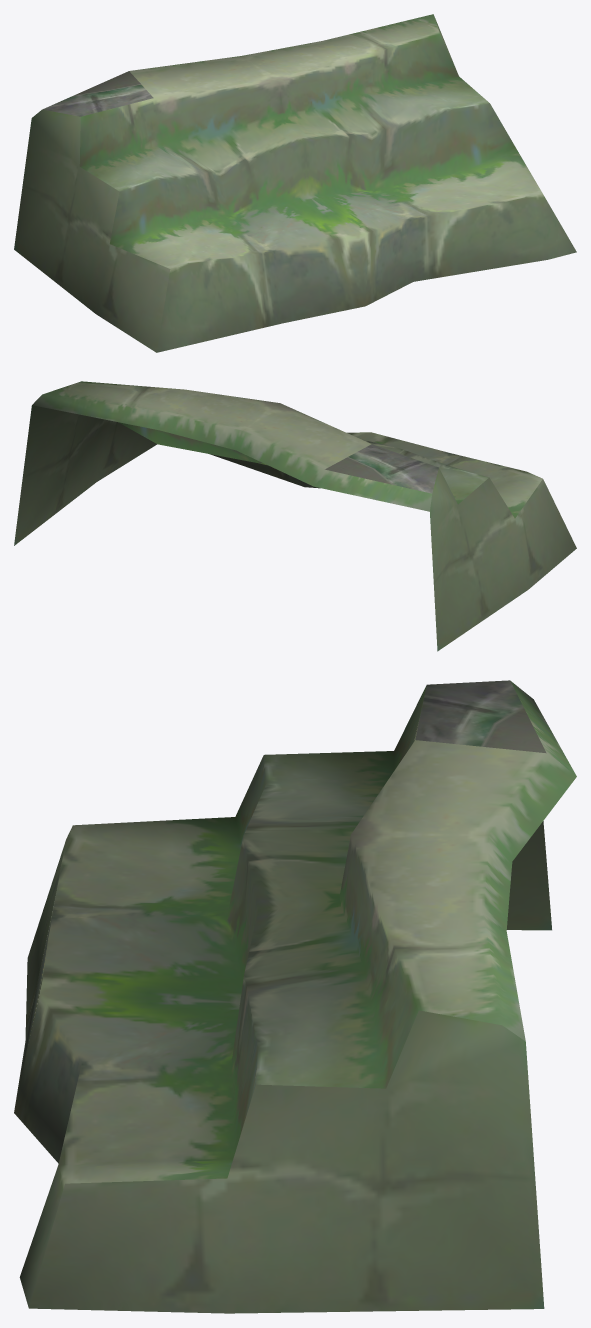
File: cj_xinshou_taijie01_53_39_2288out.fbx
The picture shows the model from 3 angles, top to bottom: view 1: azimuth 30°, elevation 25°; view 2: azimuth 150°, elevation 25°; view 3: azimuth 270°, elevation 25°; orthographic projection. The views are drawn at different scales.
Parts seen in each view (by area): view 1: cj_xinshou_taijie01; view 2: cj_xinshou_taijie01; view 3: cj_xinshou_taijie01.
Part boxes in pixels (bbox=[...]): cj_xinshou_taijie01: bbox=[14, 14, 576, 352]; cj_xinshou_taijie01: bbox=[14, 381, 576, 651]; cj_xinshou_taijie01: bbox=[14, 680, 576, 1313].
Size of the model in its own units: 3.31 by 1.14 by 2.04.
